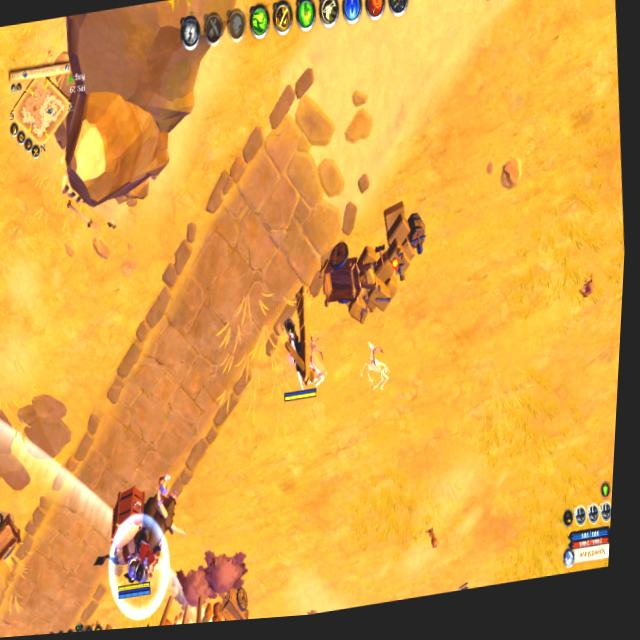mob: (304, 335, 330, 389)
red: (94, 480, 184, 615), (274, 314, 322, 406)
